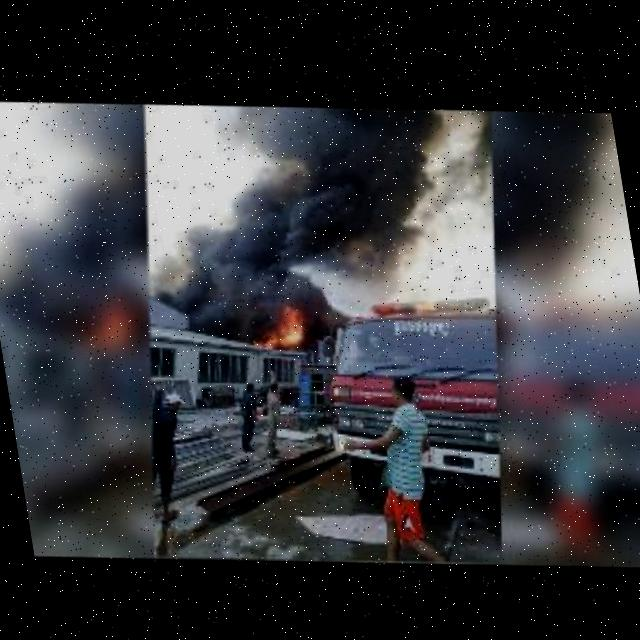fire: (245, 288, 319, 363)
